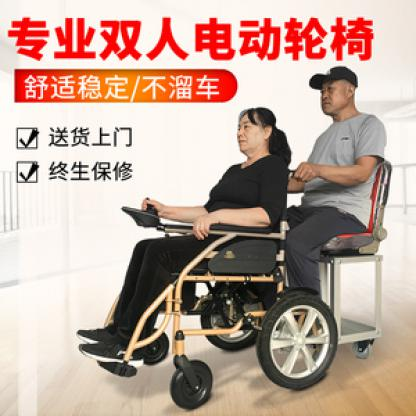wheelchair: (86, 108, 334, 398), (268, 67, 392, 345)
